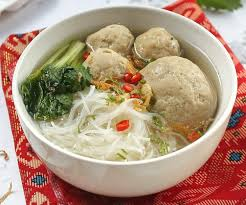bakso: (91, 20, 228, 146)
